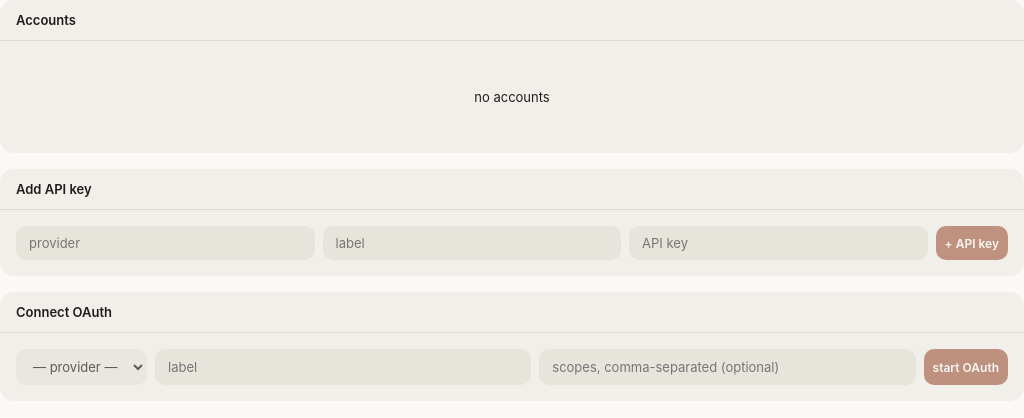
Test: ConnectorsTab › add-api-key submit stays disabled while any field is empty
Check: the button with test id "apikey-submit" is disabled, box [936,226,1008,260]
In the field with test id "apikey-provider": {"x": 165, "y": 243} [16,226,314,260], type "generic-rest"
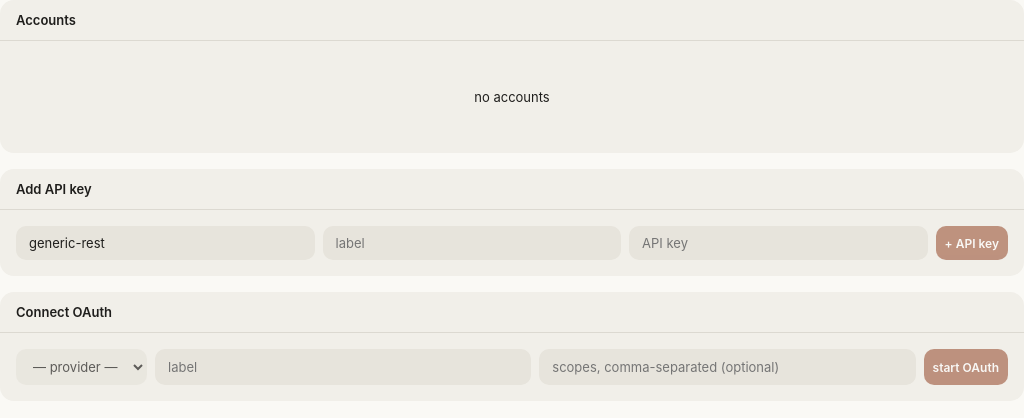
Check: the button with test id "apikey-submit" is disabled, box [936,226,1008,260]
In the field with test id "apikey-label": {"x": 472, "y": 243} [322,226,621,260], type "My API"
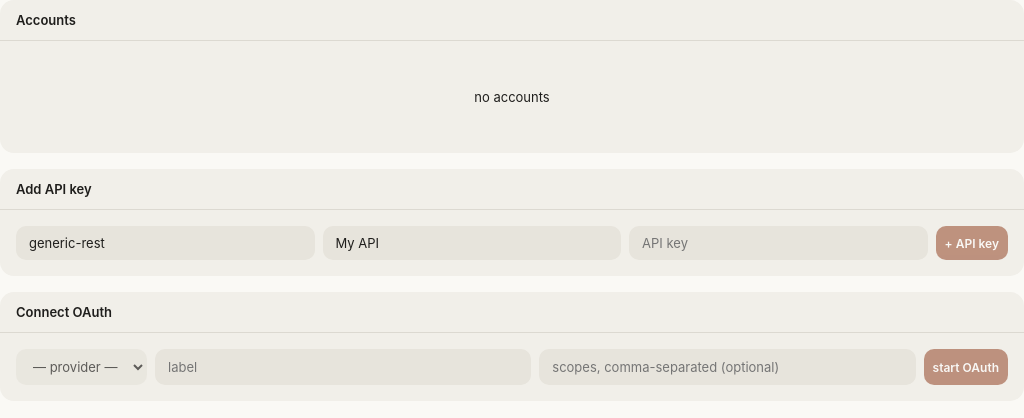
Check: the button with test id "apikey-submit" is disabled, box [936,226,1008,260]
In the password field with test id "apikey-key": {"x": 778, "y": 243} [629,226,928,260], type "sekret"
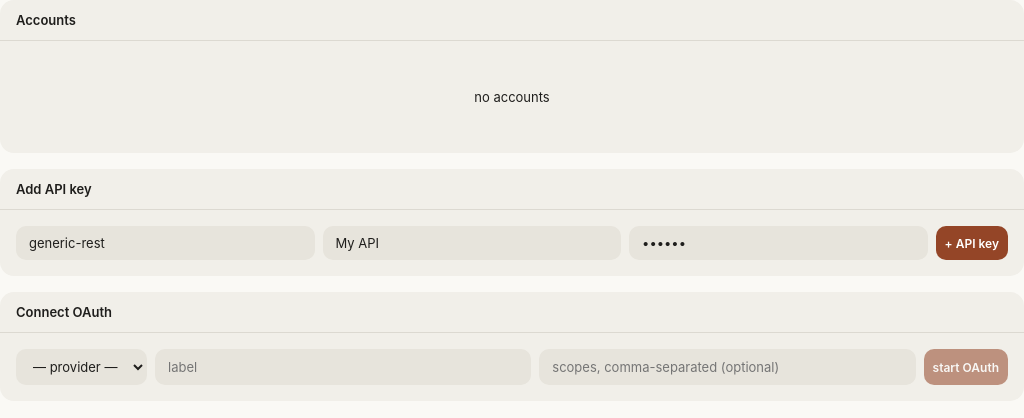
Check: the button with test id "apikey-submit" is enabled, box [936,226,1008,260]
